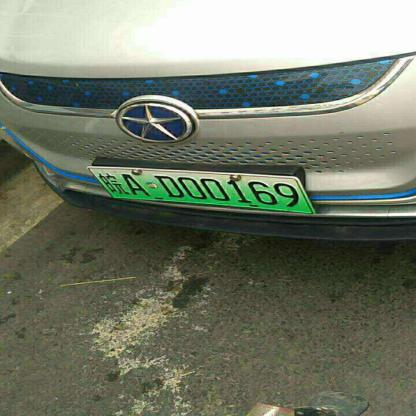lp: (88, 168, 311, 214)
